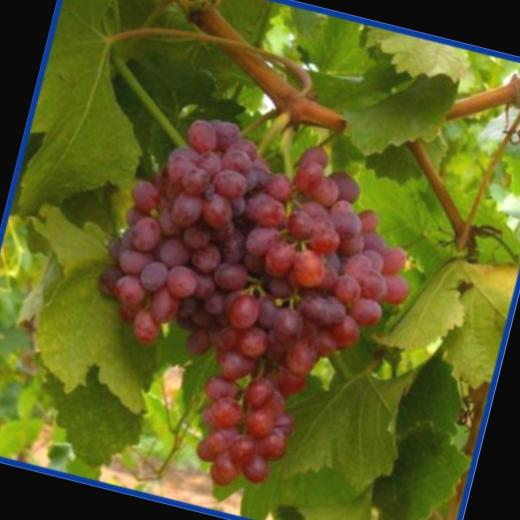Orange: (57, 100, 439, 519)
